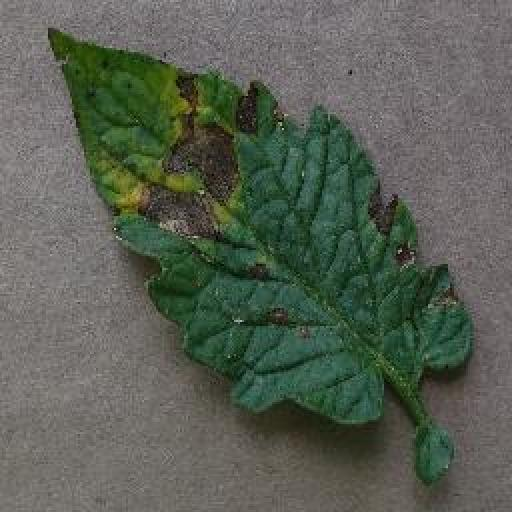Early Blight: (47, 25, 482, 431)
